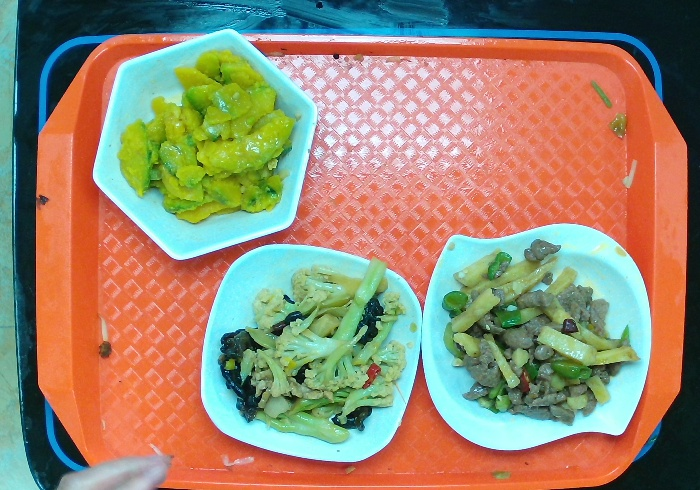RJxy-Liu_Jiao_Wan: (95, 27, 319, 260)
RJxy-Shuang_Jiao_Pan: (420, 222, 649, 455)
RJxy-Si_Fang_Wan: (203, 248, 424, 461)
